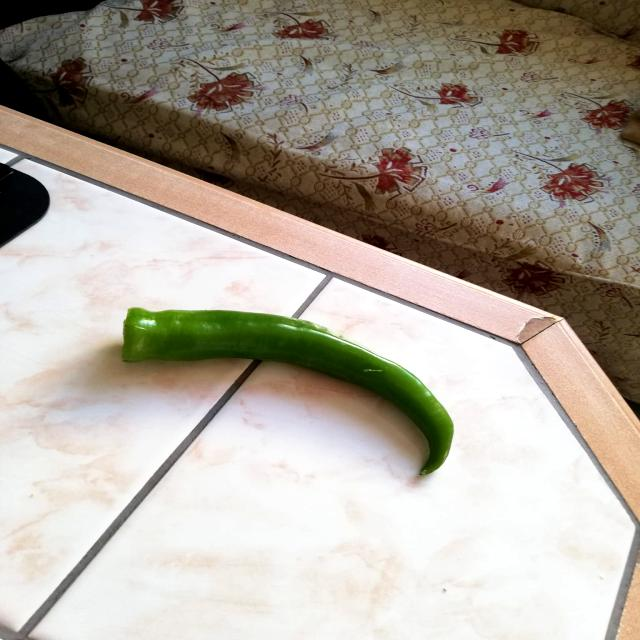green pepper: (117, 299, 458, 481)
